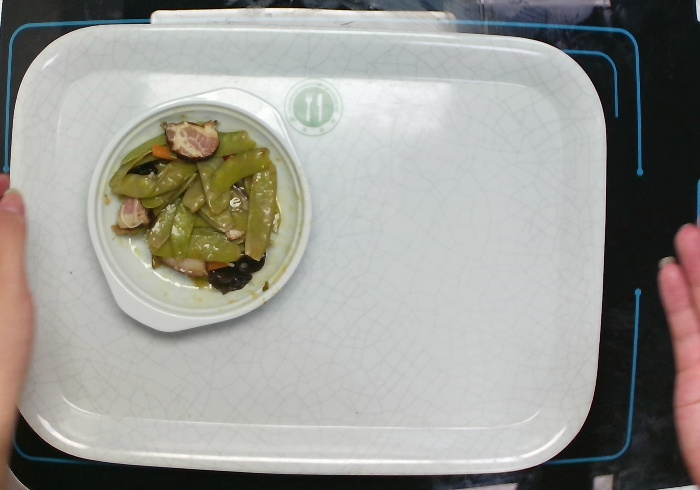JYsf-Shuang_Er_Pan: (84, 85, 311, 334)
